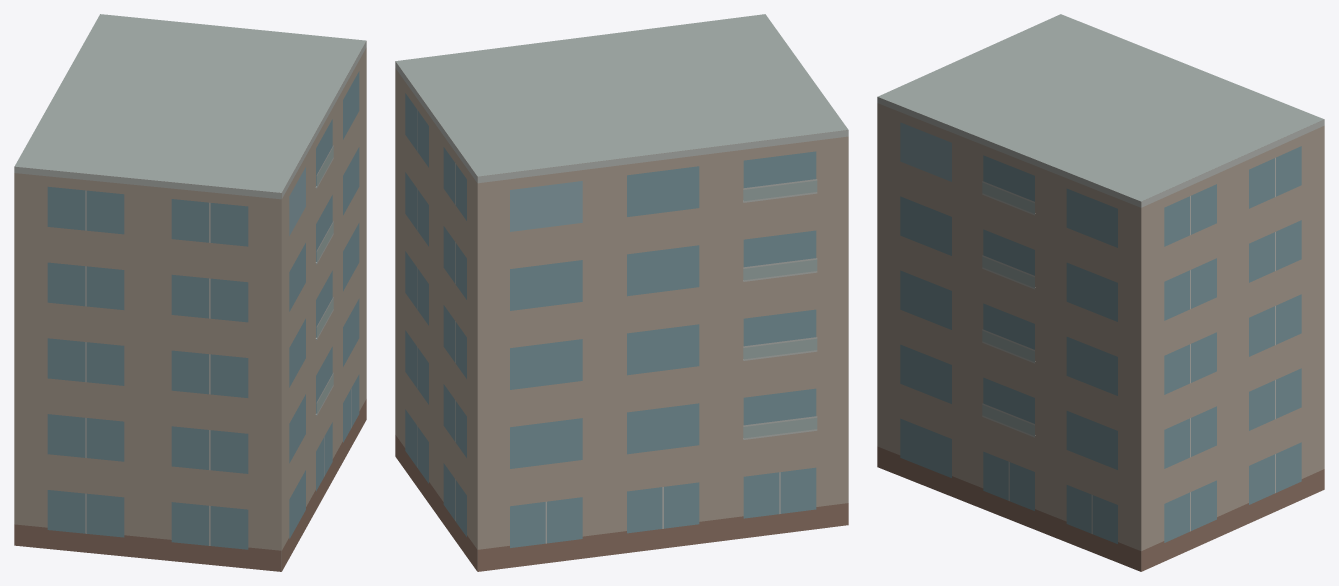
The model's file is survey-upis-32934733.glb.
3 views of the same model, side by side, from view 1: azimuth 30°, elevation 25°; view 2: azimuth 150°, elevation 25°; view 3: azimuth 270°, elevation 25° (orthographic). The views are drawn at different scales.
Visible parts, largest first — view 1: survey-upis-32934733.tmp; view 2: survey-upis-32934733.tmp; view 3: survey-upis-32934733.tmp.
Part boxes in pixels (box(x1,y1,x2,y2)): survey-upis-32934733.tmp: box(14, 14, 366, 571); survey-upis-32934733.tmp: box(395, 14, 848, 571); survey-upis-32934733.tmp: box(877, 14, 1324, 571).
Size of the model in its own units: 15.65 by 14.4 by 15.76.
